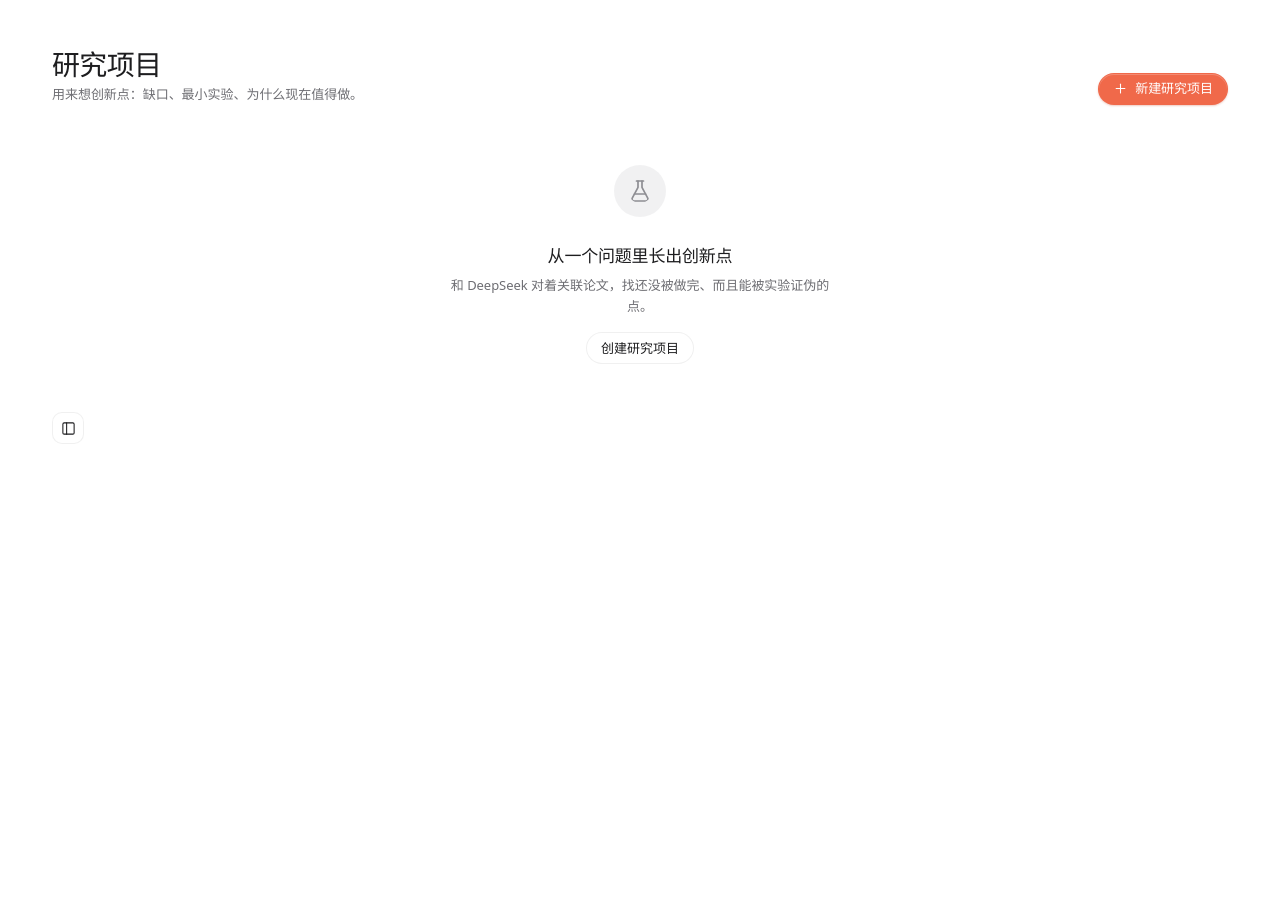
it: creates a project with a topic, direction, focus and zero or more papers
Later steps or results of the test are not shown.
Click the button "新建研究项目" at (1163, 88), box [1098,72,1228,104]
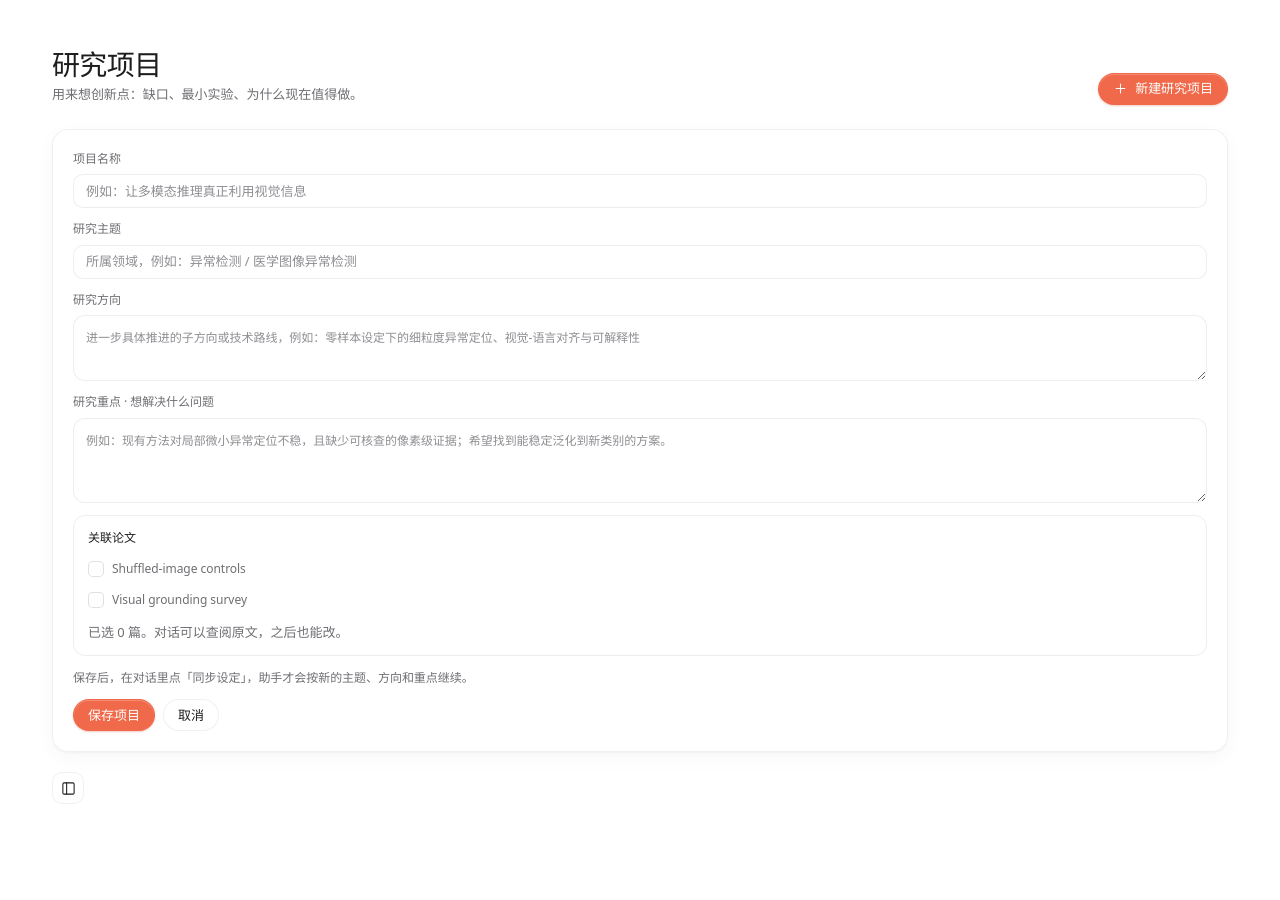
Now the text with class "muted" shows "已选 0 篇", box [88,623,348,641]
Click the checkbox labelled "Shuffled-image controls" at (96, 569), box [88,561,104,577]
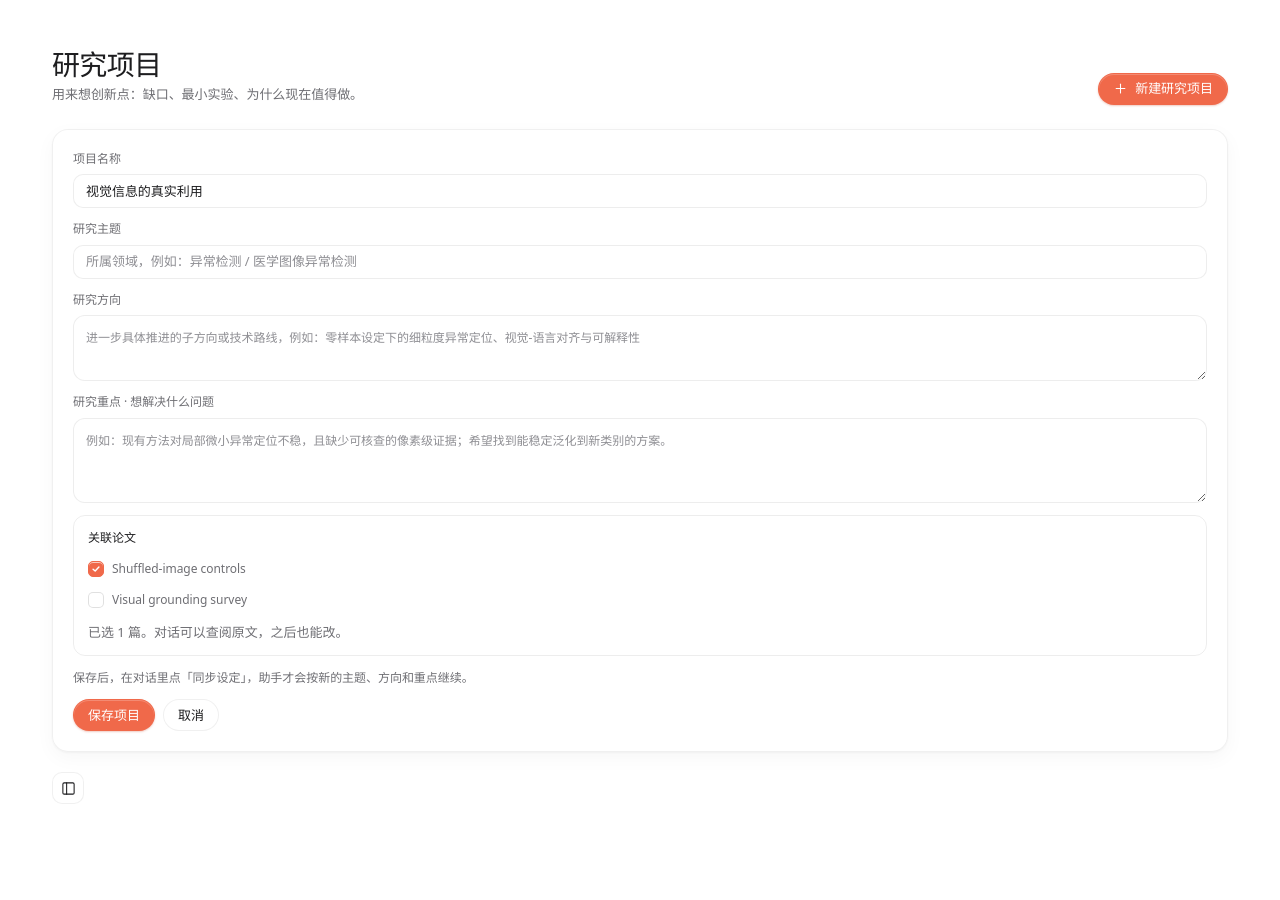
Now the text with class "muted" shows "已选 1 篇", box [88,623,348,641]
